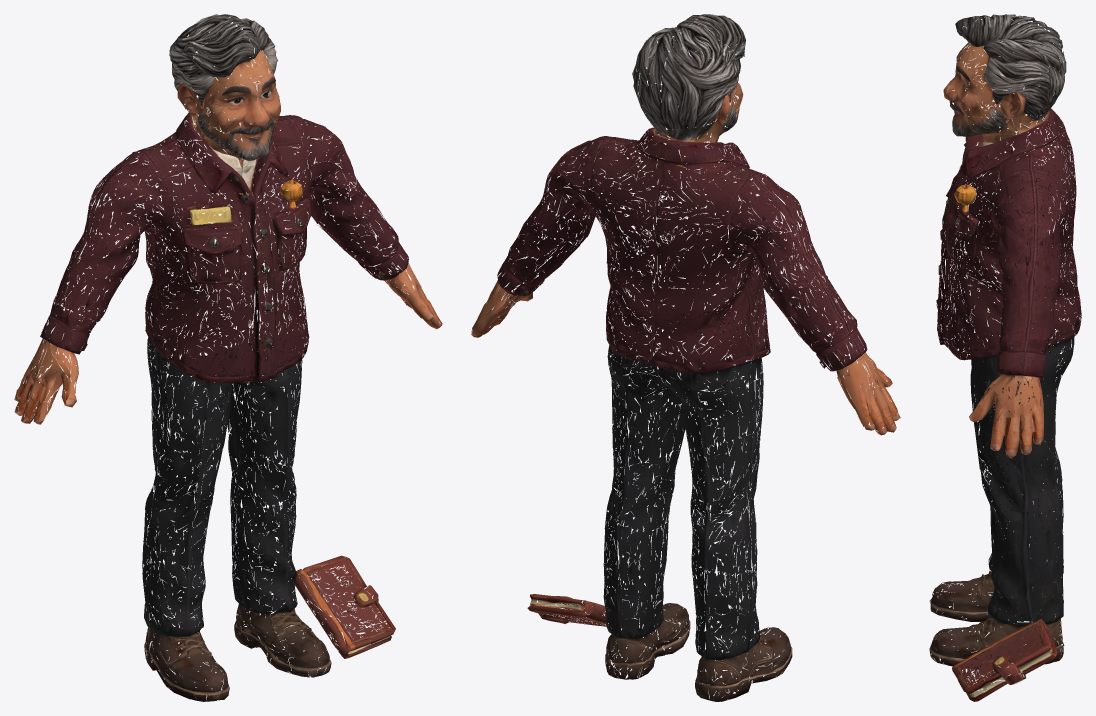
The model's file is lantern-owner.glb.
The picture shows the model from 3 angles, left to right: view 1: azimuth 30°, elevation 25°; view 2: azimuth 150°, elevation 25°; view 3: azimuth 270°, elevation 25°; orthographic projection. The views are drawn at different scales.
Parts seen in each view (by area): view 1: tripo_node_78780062-880a-4ed7-93ee-4121348620a2; view 2: tripo_node_78780062-880a-4ed7-93ee-4121348620a2; view 3: tripo_node_78780062-880a-4ed7-93ee-4121348620a2.
Boxes of the visible parts, x1,y1,x2,y2 form: tripo_node_78780062-880a-4ed7-93ee-4121348620a2: [14, 14, 442, 701]; tripo_node_78780062-880a-4ed7-93ee-4121348620a2: [471, 14, 900, 701]; tripo_node_78780062-880a-4ed7-93ee-4121348620a2: [929, 14, 1081, 701].
Size of the model in its own units: 0.6634 by 0.9815 by 0.2188.
Materials: 1 (1 with a texture image).
